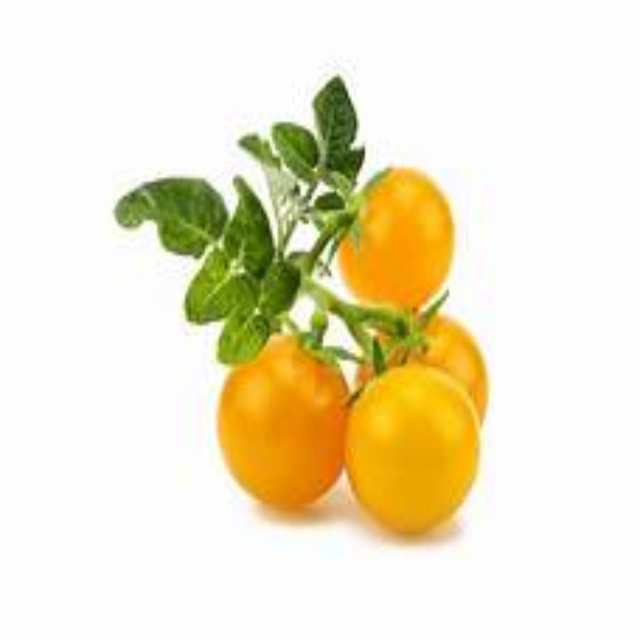tomato: (209, 339, 352, 505), (349, 364, 479, 523), (325, 165, 460, 311), (370, 296, 502, 418)
